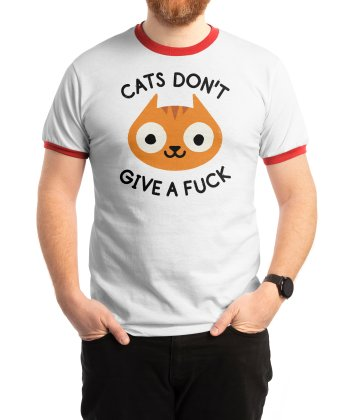design: (115, 67, 234, 200)
